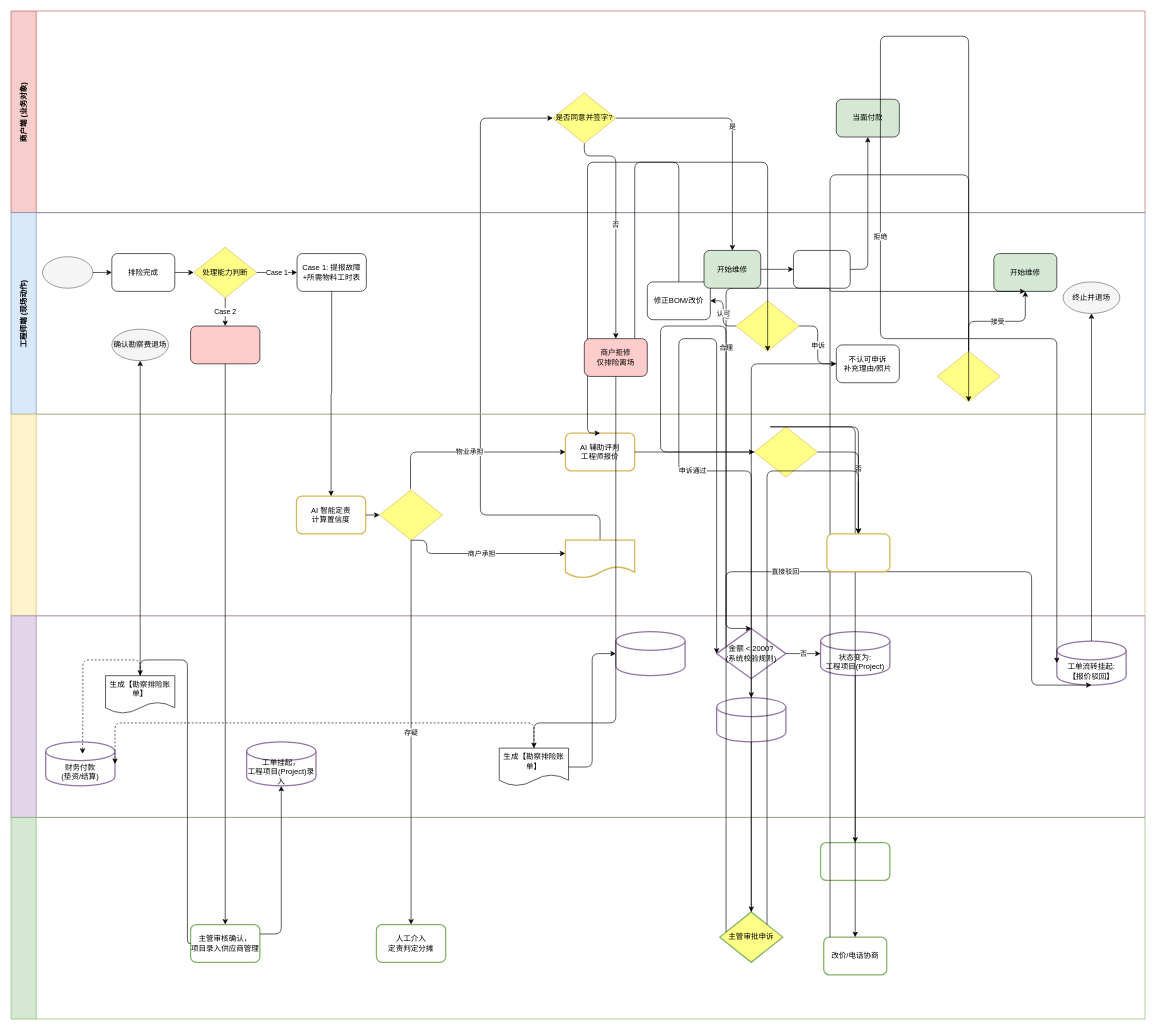
Some shapes in this 1156 by 1030 pixel diagram are drawn without their labels. The box of each missing label's shape, as (x1, y1, x2, y2) in pixels:
AI 智能提示 告知不合理点: (826, 533, 890, 572)
AI生成对外报价单 & 话术释义: (564, 539, 635, 578)
Case 2: 超出能力 申请委外大项: (190, 325, 260, 364)
主管审核项目 录入供应商管理: (820, 842, 890, 881)
到场应急排险: (42, 256, 93, 288)
同意协商新价?: (936, 351, 1000, 402)
定责结果: (379, 489, 443, 540)
数字化底座: (10, 615, 1145, 817)
是否合理？: (754, 426, 817, 477)
物业主管端 (人工决策): (10, 817, 1145, 1019)
状态变为: 【异常待审批】: (716, 697, 786, 742)
系统挂账 【应收账款】: (615, 631, 685, 676)
维修完毕: (793, 250, 850, 288)
认可AI评判？: (736, 300, 799, 351)
